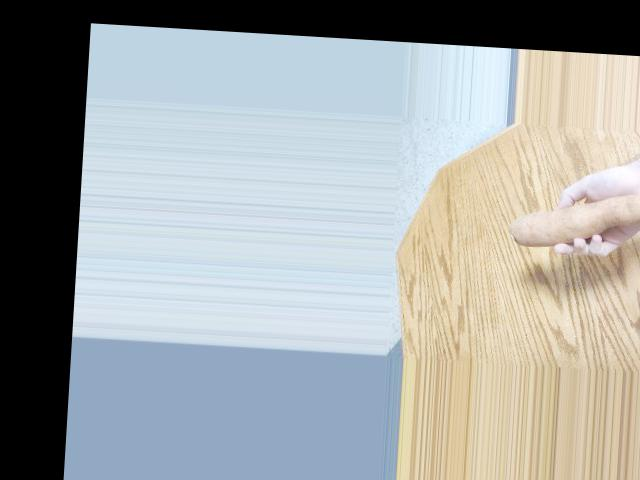sweet_potato: (516, 187, 640, 259)
